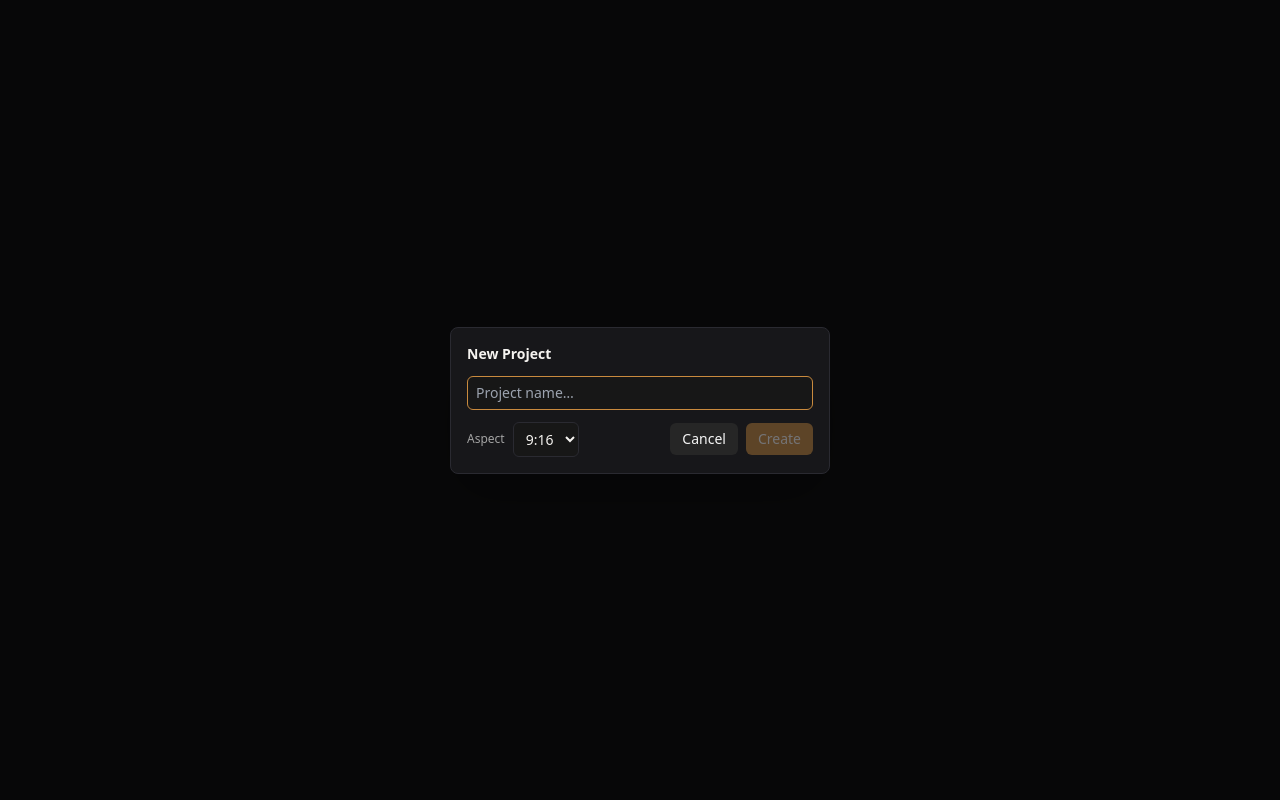
Test case: NewProjectDialog › clears a previous failure when the next attempt succeeds
Type "my film" into the field with placeholder "Project name…".
click(640, 392); type("my film")  # box [467, 376, 813, 410]
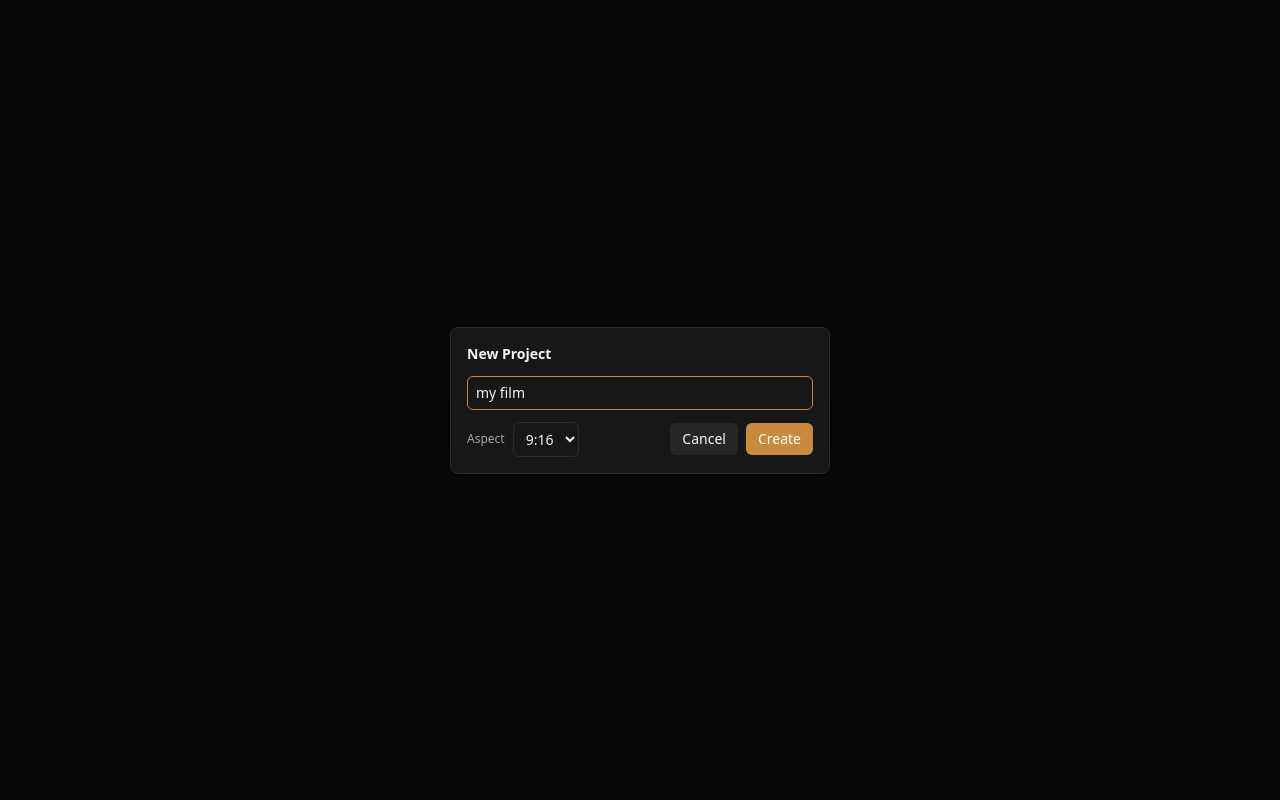
Click the button "Create".
click(779, 439)  # box [746, 423, 813, 455]
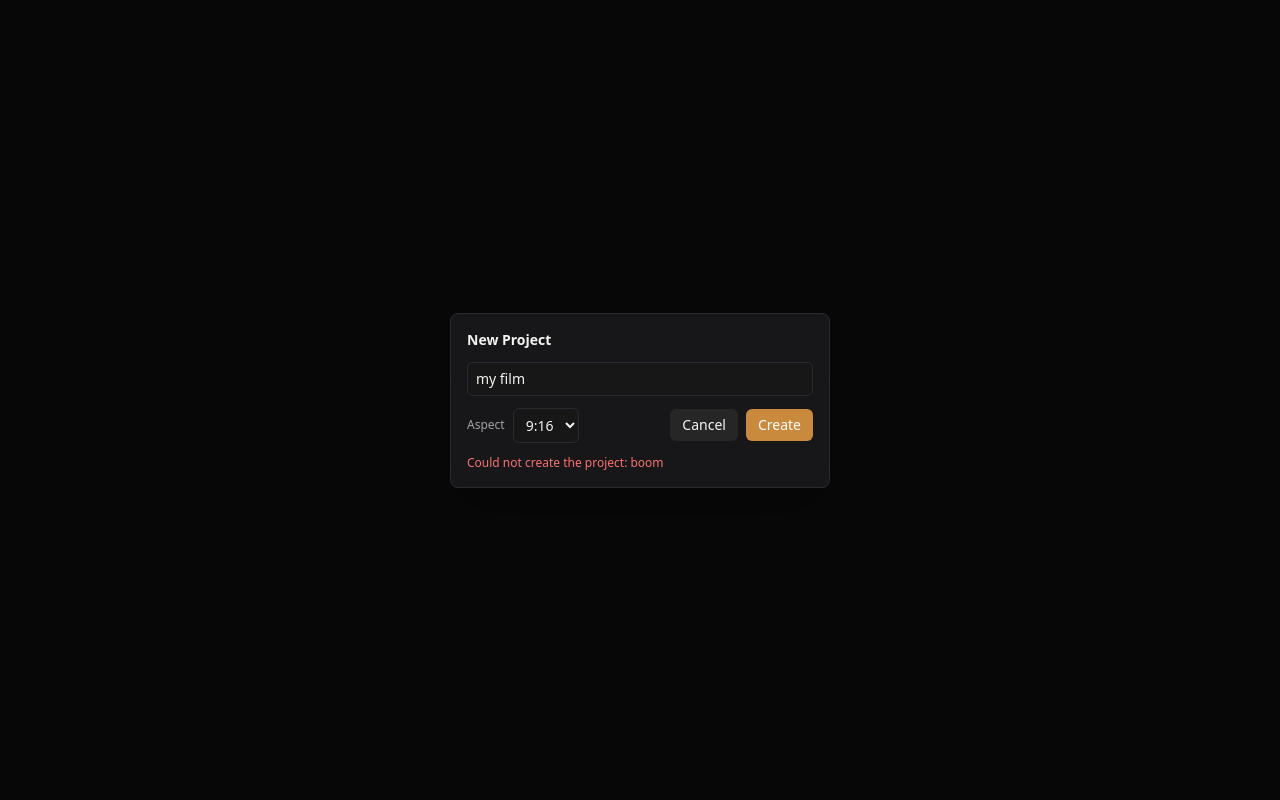
Now the message "Could not create the project: boom" is shown, box [467, 454, 664, 470]
Click the button "Create".
click(779, 425)  # box [746, 409, 813, 441]
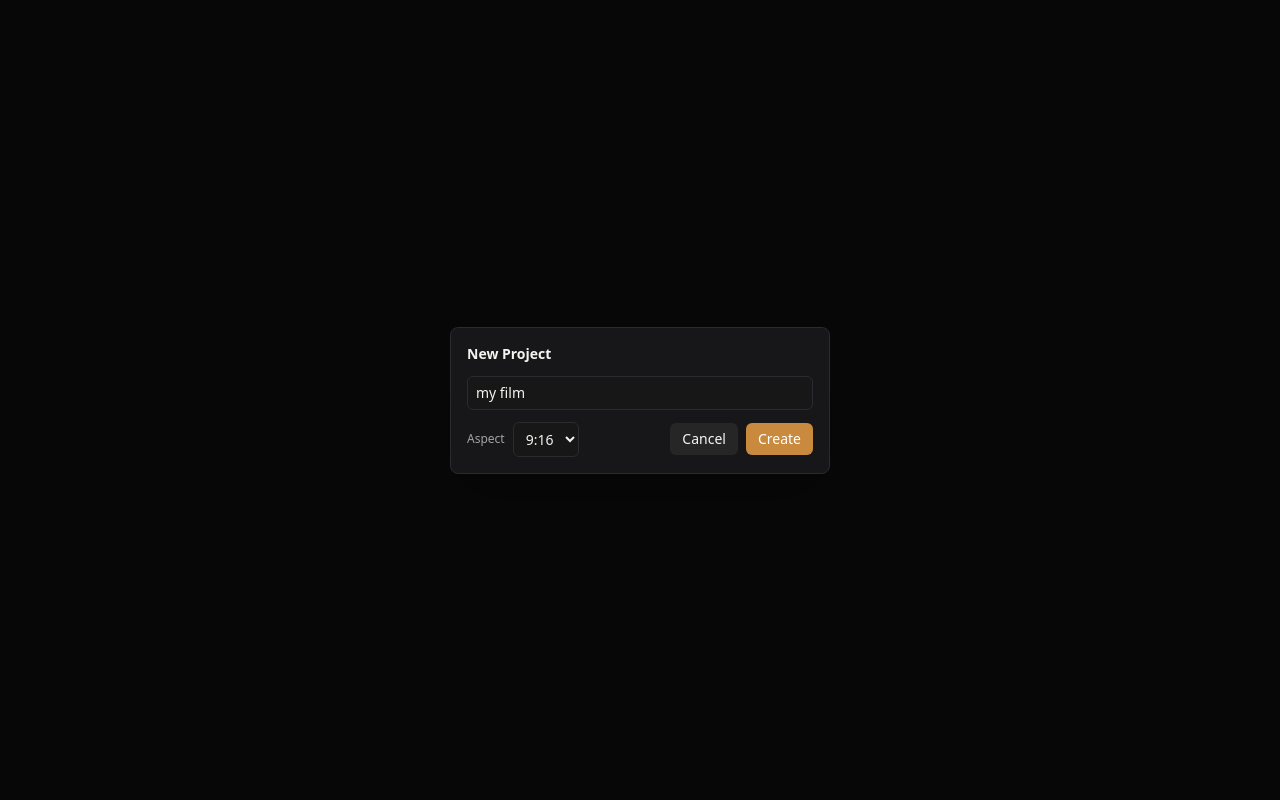
Now the message "Could not create the project: boom" is gone
